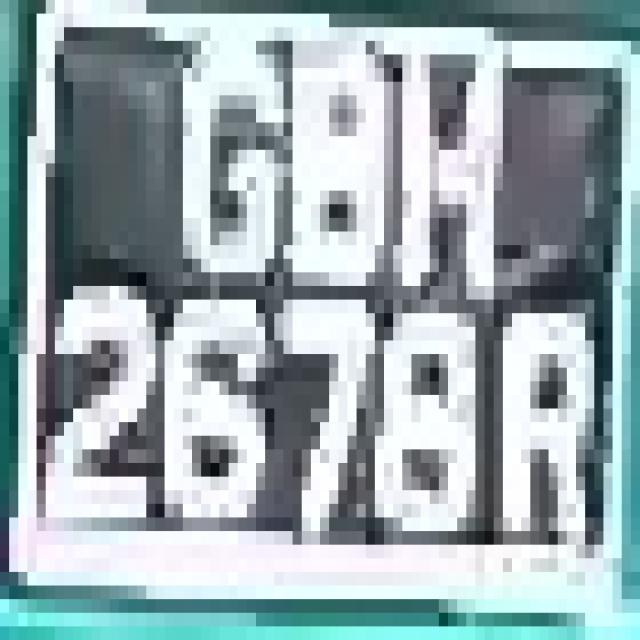2: (36, 245, 156, 531)
6: (137, 272, 284, 545)
7: (256, 272, 347, 558)
8: (375, 272, 475, 545)
B: (274, 27, 412, 313)
G: (146, 0, 293, 286)
H: (384, 27, 521, 340)
R: (484, 272, 612, 531)
